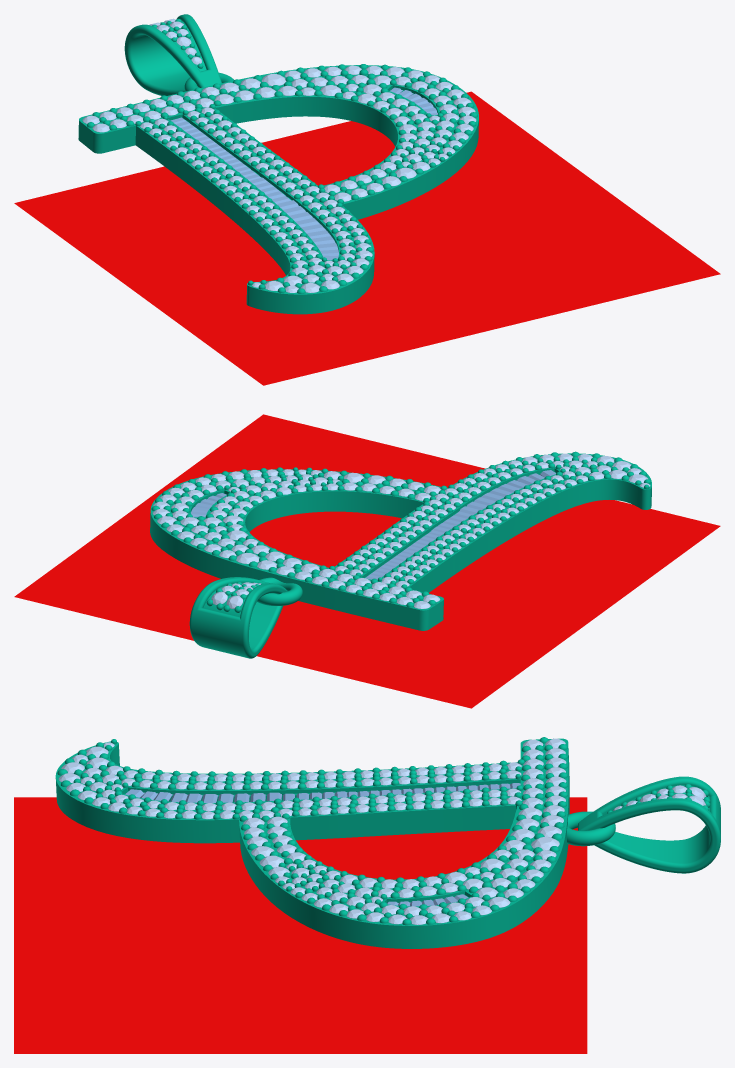
3 views of the same model, one above another, from view 1: azimuth 30°, elevation 25°; view 2: azimuth 150°, elevation 25°; view 3: azimuth 270°, elevation 25° (orthographic). The views are drawn at different scales.
Parts seen in each view (by area): view 1: PN 0020 (1)(base).3dm; view 2: PN 0020 (1)(base).3dm; view 3: PN 0020 (1)(base).3dm.
Boxes of the visible parts, x1=… form: PN 0020 (1)(base).3dm: x1=14, y1=14, x2=720, y2=385; PN 0020 (1)(base).3dm: x1=14, y1=414, x2=720, y2=708; PN 0020 (1)(base).3dm: x1=14, y1=738, x2=720, y2=1053.
Size of what is drawn, in the model's own units: 2.98 by 0.6418 by 3.47.
